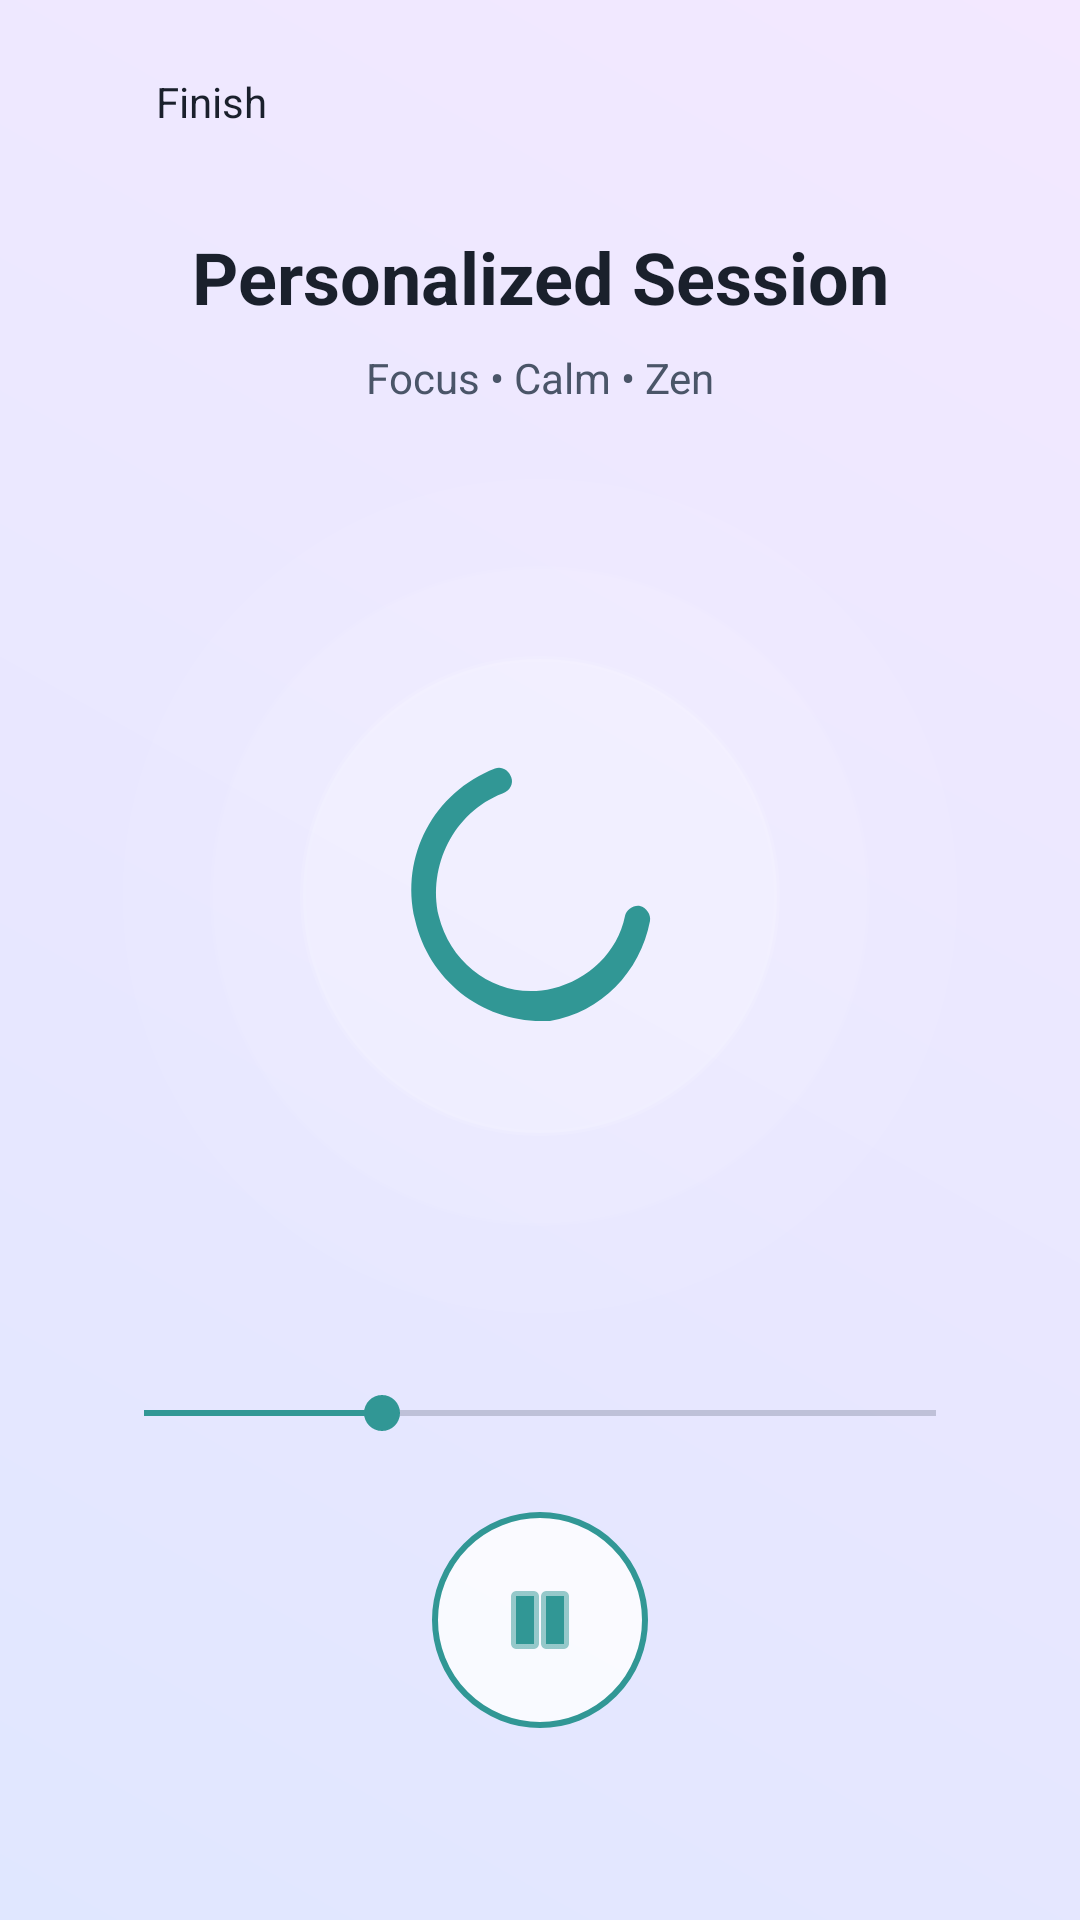

Where icons sit on this 1080x1920 app screen, as (x1, y1, x2, y2):
pause: (511, 1591, 569, 1649)
